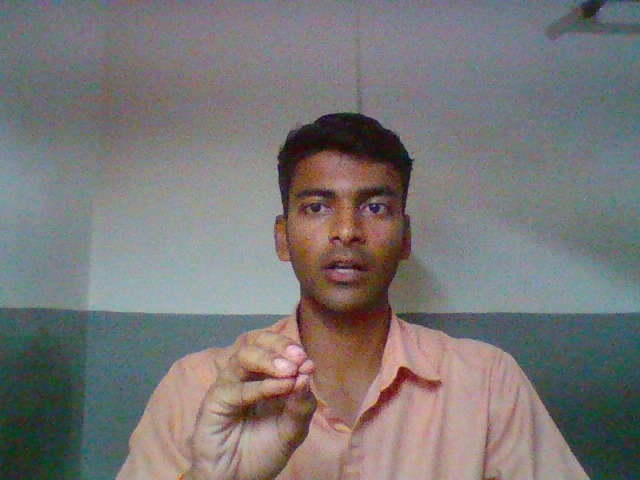Z: (162, 322, 342, 480)
